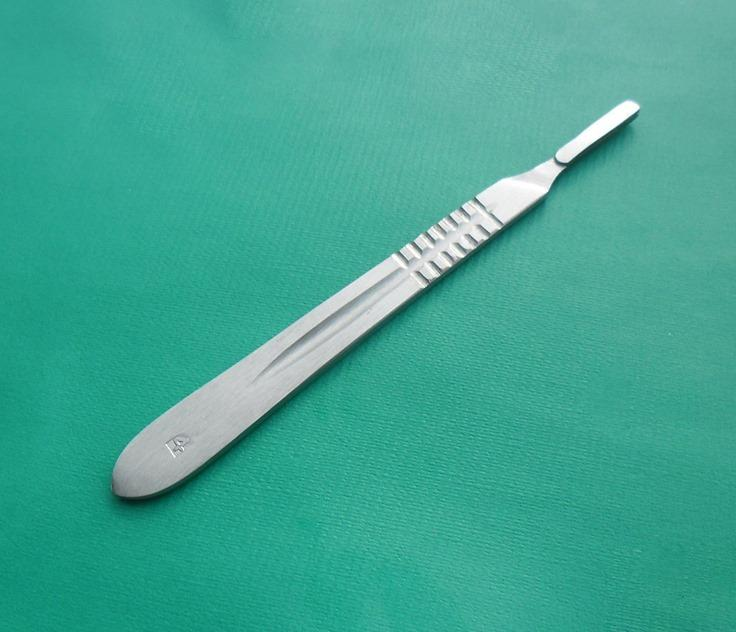Knife Handle: (91, 83, 645, 525)
